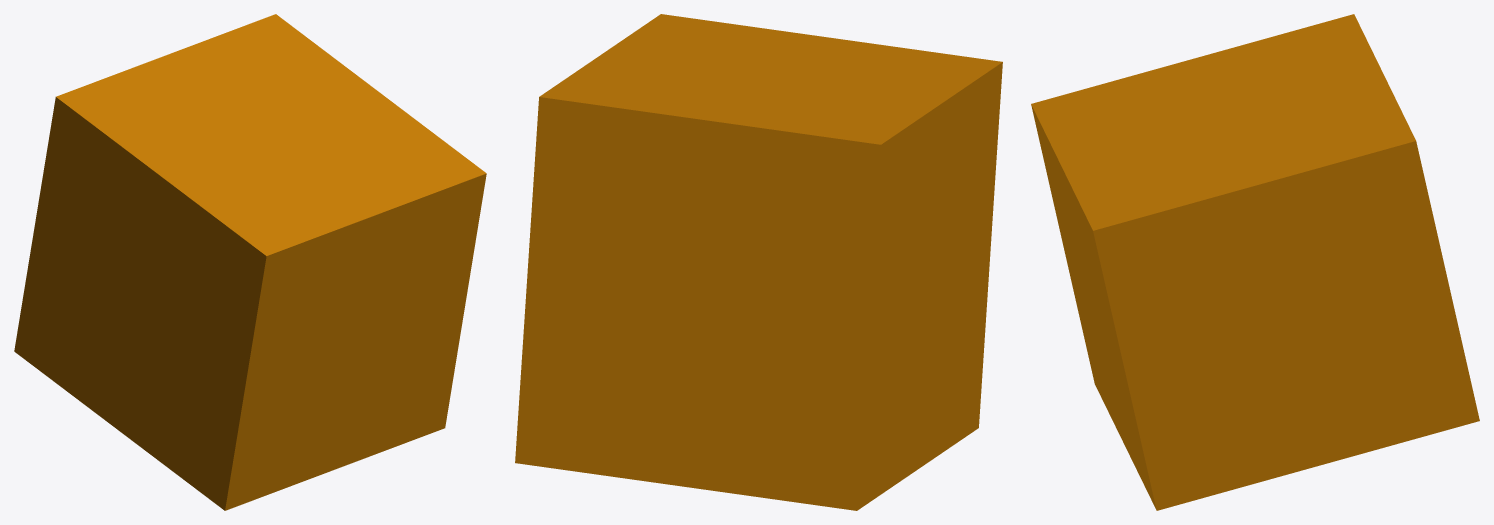
Rendered from cube_anim.fbx.
3 views of the same model, side by side, from view 1: azimuth 30°, elevation 25°; view 2: azimuth 150°, elevation 25°; view 3: azimuth 270°, elevation 25° (orthographic). The views are drawn at different scales.
Parts seen in each view (by area): view 1: pCube1; view 2: pCube1; view 3: pCube1.
Boxes of the visible parts, x1,y1,x2,y2 form: pCube1: (14, 14, 486, 510); pCube1: (515, 14, 1002, 510); pCube1: (1031, 14, 1479, 510).
Bounding box in the file's own units: 1.3 × 1.31 × 1.54.
